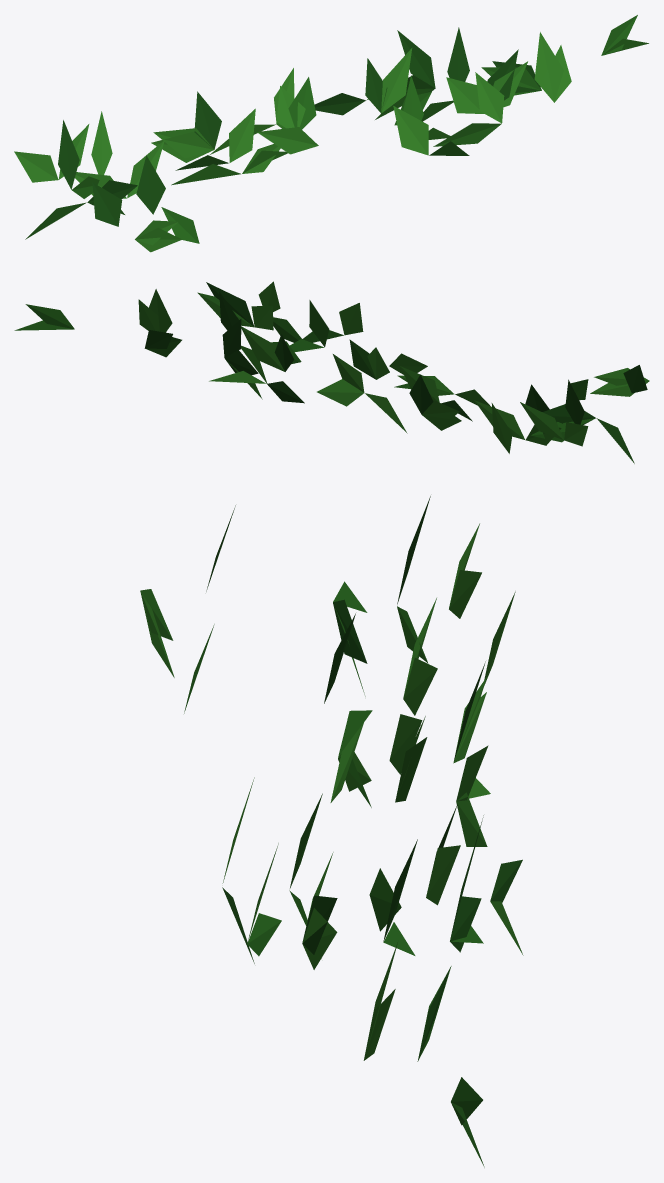
3 views of the same model, one above another, from view 1: azimuth 30°, elevation 25°; view 2: azimuth 150°, elevation 25°; view 3: azimuth 270°, elevation 25° (orthographic). The views are drawn at different scales.
Visible parts, largest first — view 1: r9c0_l10; view 2: r9c0_l10; view 3: r9c0_l10.
Part boxes in pixels (<box>): r9c0_l10: <box>14,15,648,252</box>; r9c0_l10: <box>14,281,649,463</box>; r9c0_l10: <box>140,496,523,1167</box>.
Size of the model in its own units: 1.85 by 0.2531 by 0.5198.
